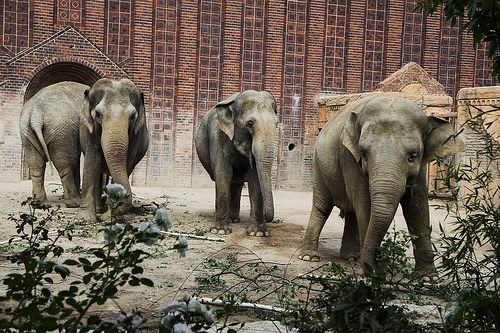elephant: (297, 82, 457, 303), (192, 85, 286, 254), (79, 72, 153, 233)
